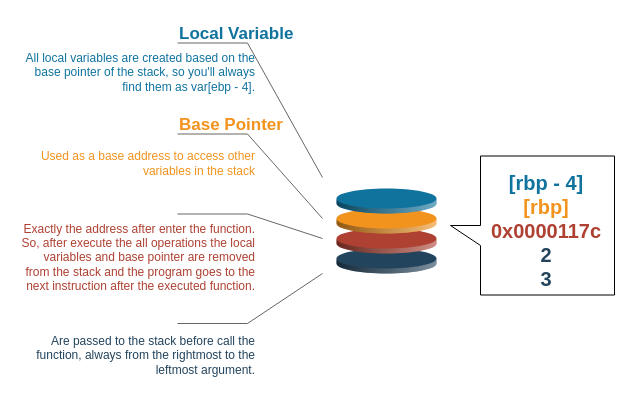
This 632x398 diagram has some shape labels left out. The centre of each missing label's shape, as x and y in pixels:
Arguments: the point at 249,298
Return Address: the point at 249,213
